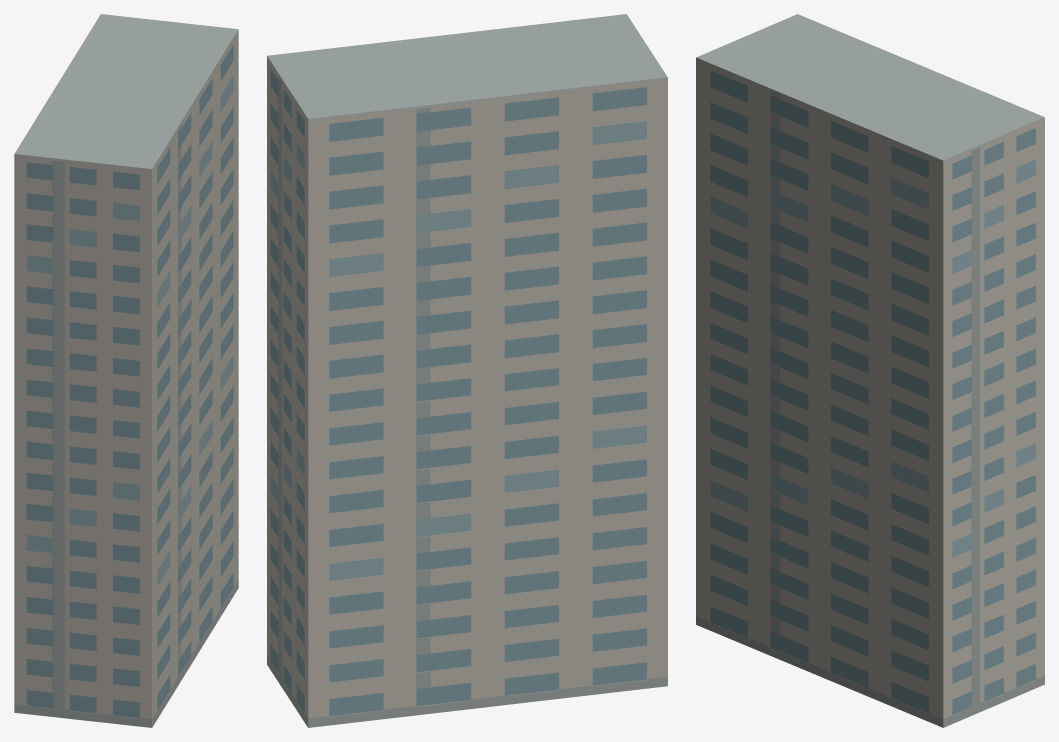
File: residential-265ed809-fdcf-4ab6-91bd-dd62cbfa280b.glb
The picture shows the model from 3 angles, left to right: view 1: azimuth 30°, elevation 25°; view 2: azimuth 150°, elevation 25°; view 3: azimuth 270°, elevation 25°; orthographic projection. The views are drawn at different scales.
Visible parts, largest first — view 1: residential-265ed809-fdcf-4ab6-91bd-dd62cbfa280b.tmp; view 2: residential-265ed809-fdcf-4ab6-91bd-dd62cbfa280b.tmp; view 3: residential-265ed809-fdcf-4ab6-91bd-dd62cbfa280b.tmp.
Boxes of the visible parts, x1,y1,x2,y2 form: residential-265ed809-fdcf-4ab6-91bd-dd62cbfa280b.tmp: (14, 14, 238, 727); residential-265ed809-fdcf-4ab6-91bd-dd62cbfa280b.tmp: (267, 14, 667, 727); residential-265ed809-fdcf-4ab6-91bd-dd62cbfa280b.tmp: (696, 14, 1044, 727).
Size of the model in its own units: 29.38 by 53 by 29.53.
